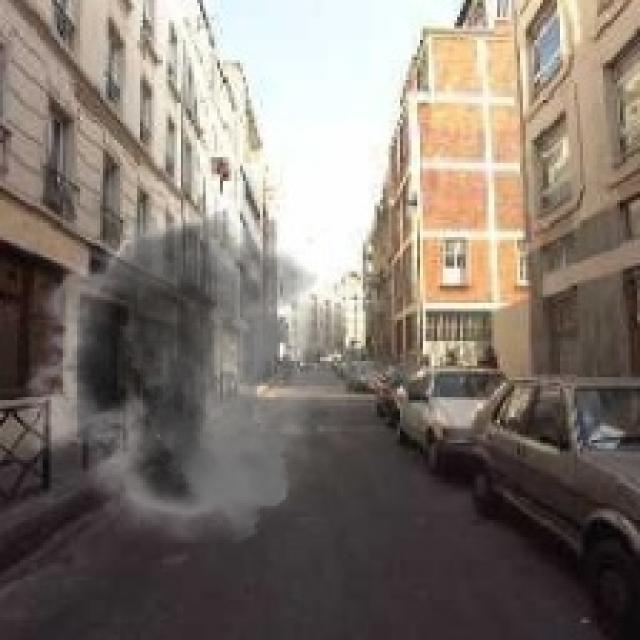Smoke: (6, 180, 392, 543)
